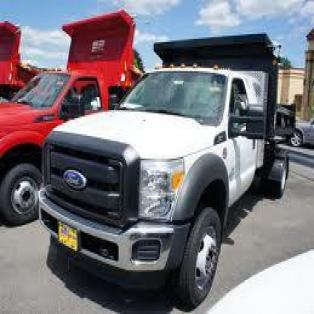Auto: (37, 34, 288, 311)
